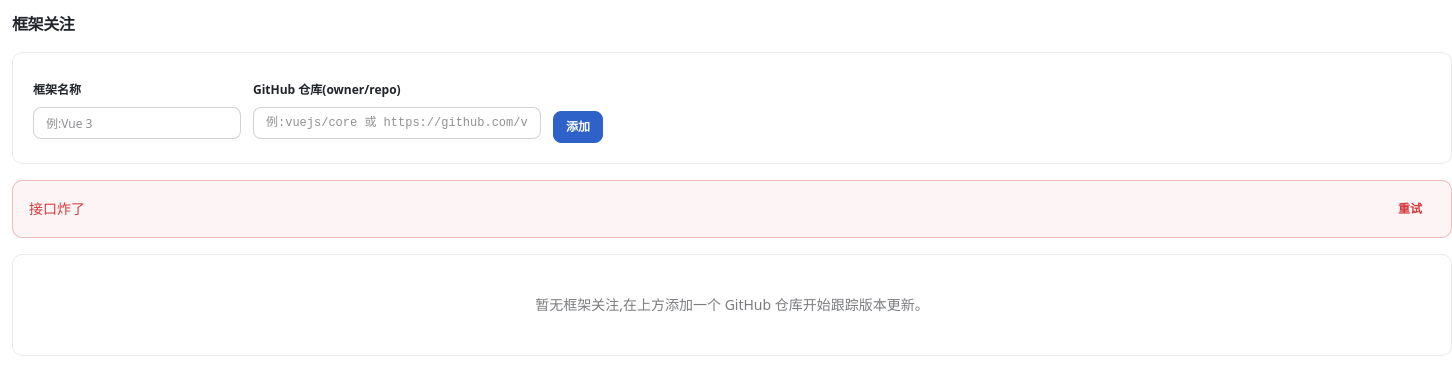
Test: FrameworkManager 列表加载 › 加载失败渲染错误横幅与兜底文案,重试按钮重新拉取第一页
Click the button with class "btn-ghost": [1410, 209] box top-left (1385, 193), bottom-right (1435, 225)
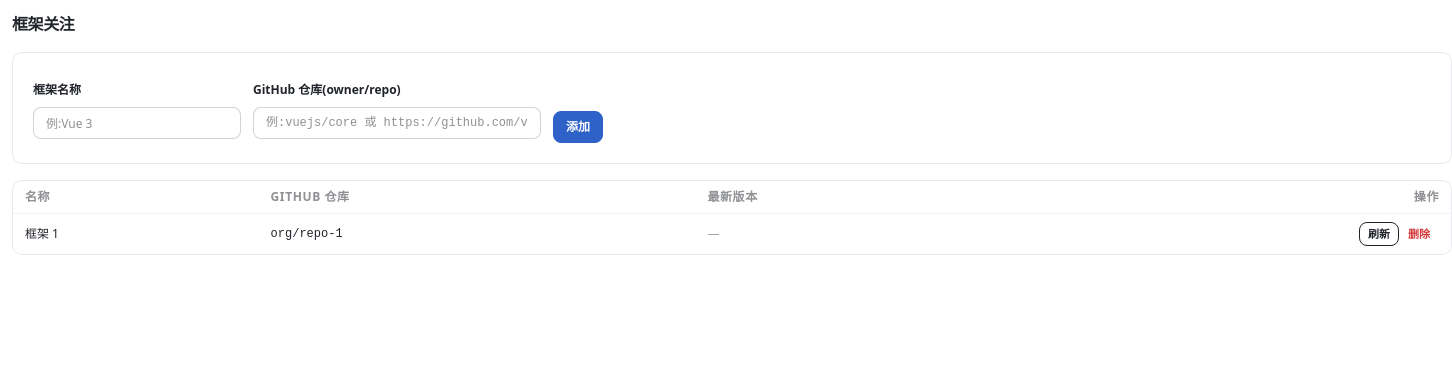
Now the text "框架 1" is shown, box top-left (13, 214), bottom-right (259, 254)
